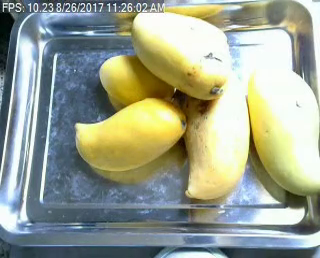Mango: (249, 65, 320, 195), (131, 9, 229, 99), (179, 74, 250, 197), (73, 100, 186, 172), (98, 56, 173, 102)
